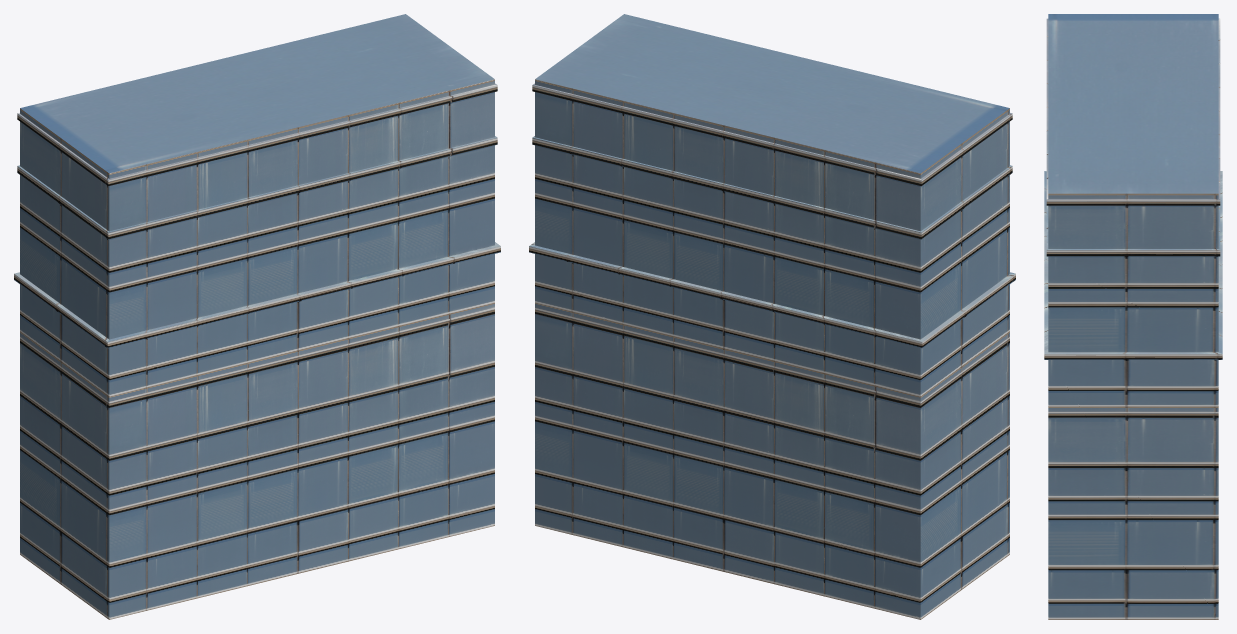
The model's file is Building_2.glb.
3 renders of one model, left to right at view 1: azimuth 30°, elevation 25°; view 2: azimuth 150°, elevation 25°; view 3: azimuth 270°, elevation 25°, orthographic. The views are drawn at different scales.
Visible parts, largest first — view 1: Cube.002; view 2: Cube.002; view 3: Cube.002.
Part boxes in pixels (x1,y1,x2,y2): Cube.002: (14, 14, 500, 619); Cube.002: (529, 14, 1015, 619); Cube.002: (1044, 14, 1222, 619).
Bounding box in the file's own units: 5.09 × 5.53 × 2.1.
Materials: 1 (1 with a texture image).
